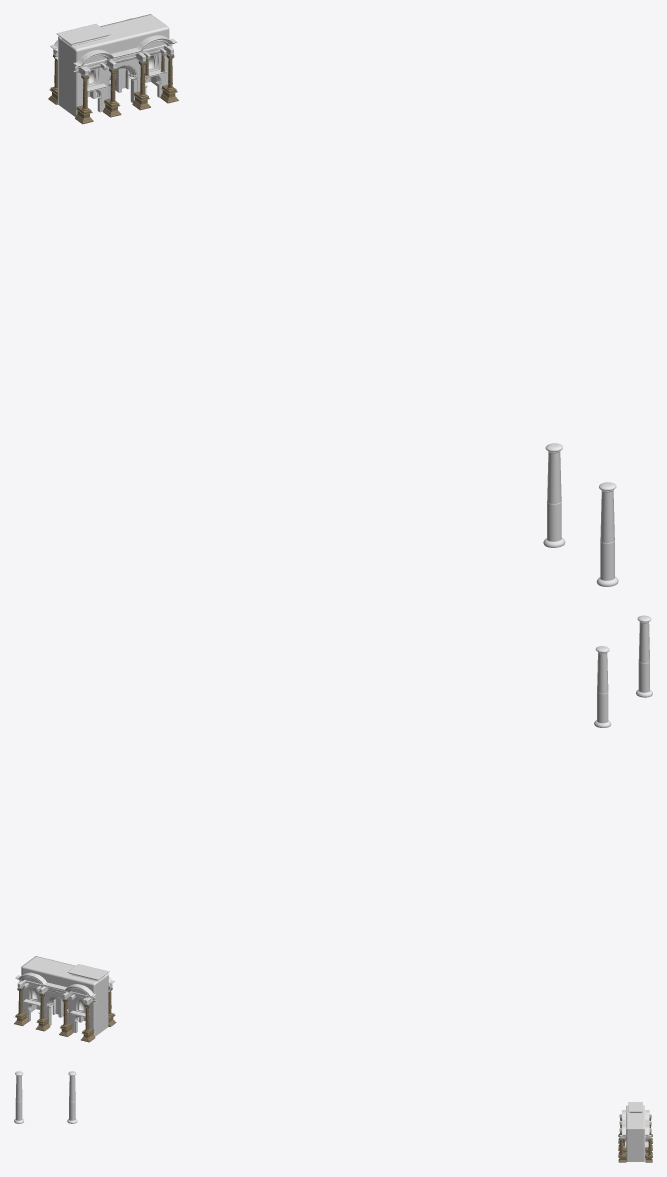
The model's file is arch.fbx.
The picture shows the model from 3 angles, top to bottom: view 1: azimuth 30°, elevation 25°; view 2: azimuth 150°, elevation 25°; view 3: azimuth 270°, elevation 25°; orthographic projection. The views are drawn at different scales.
Visible parts, largest first — view 1: Cube, MainBody, MainBody.002; view 2: Cube, MainBody, MainBody.002; view 3: Cube, MainBody, MainBody.002, MainBody.001.
Boxes of the visible parts, left/top/right/bottom form: Cube: left=58, top=14, right=169, bottom=116; MainBody: left=48, top=18, right=178, bottom=124; MainBody.002: left=543, top=443, right=618, bottom=586; Cube: left=21, top=956, right=108, bottom=1036; MainBody: left=14, top=972, right=116, bottom=1042; MainBody.002: left=594, top=615, right=652, bottom=727; Cube: left=626, top=1105, right=645, bottom=1161; MainBody: left=618, top=1110, right=652, bottom=1162; MainBody.002: left=14, top=1071, right=77, bottom=1123; MainBody.001: left=628, top=1102, right=642, bottom=1113.
Size of the model in its own units: 32578 by 5360 by 2759.
